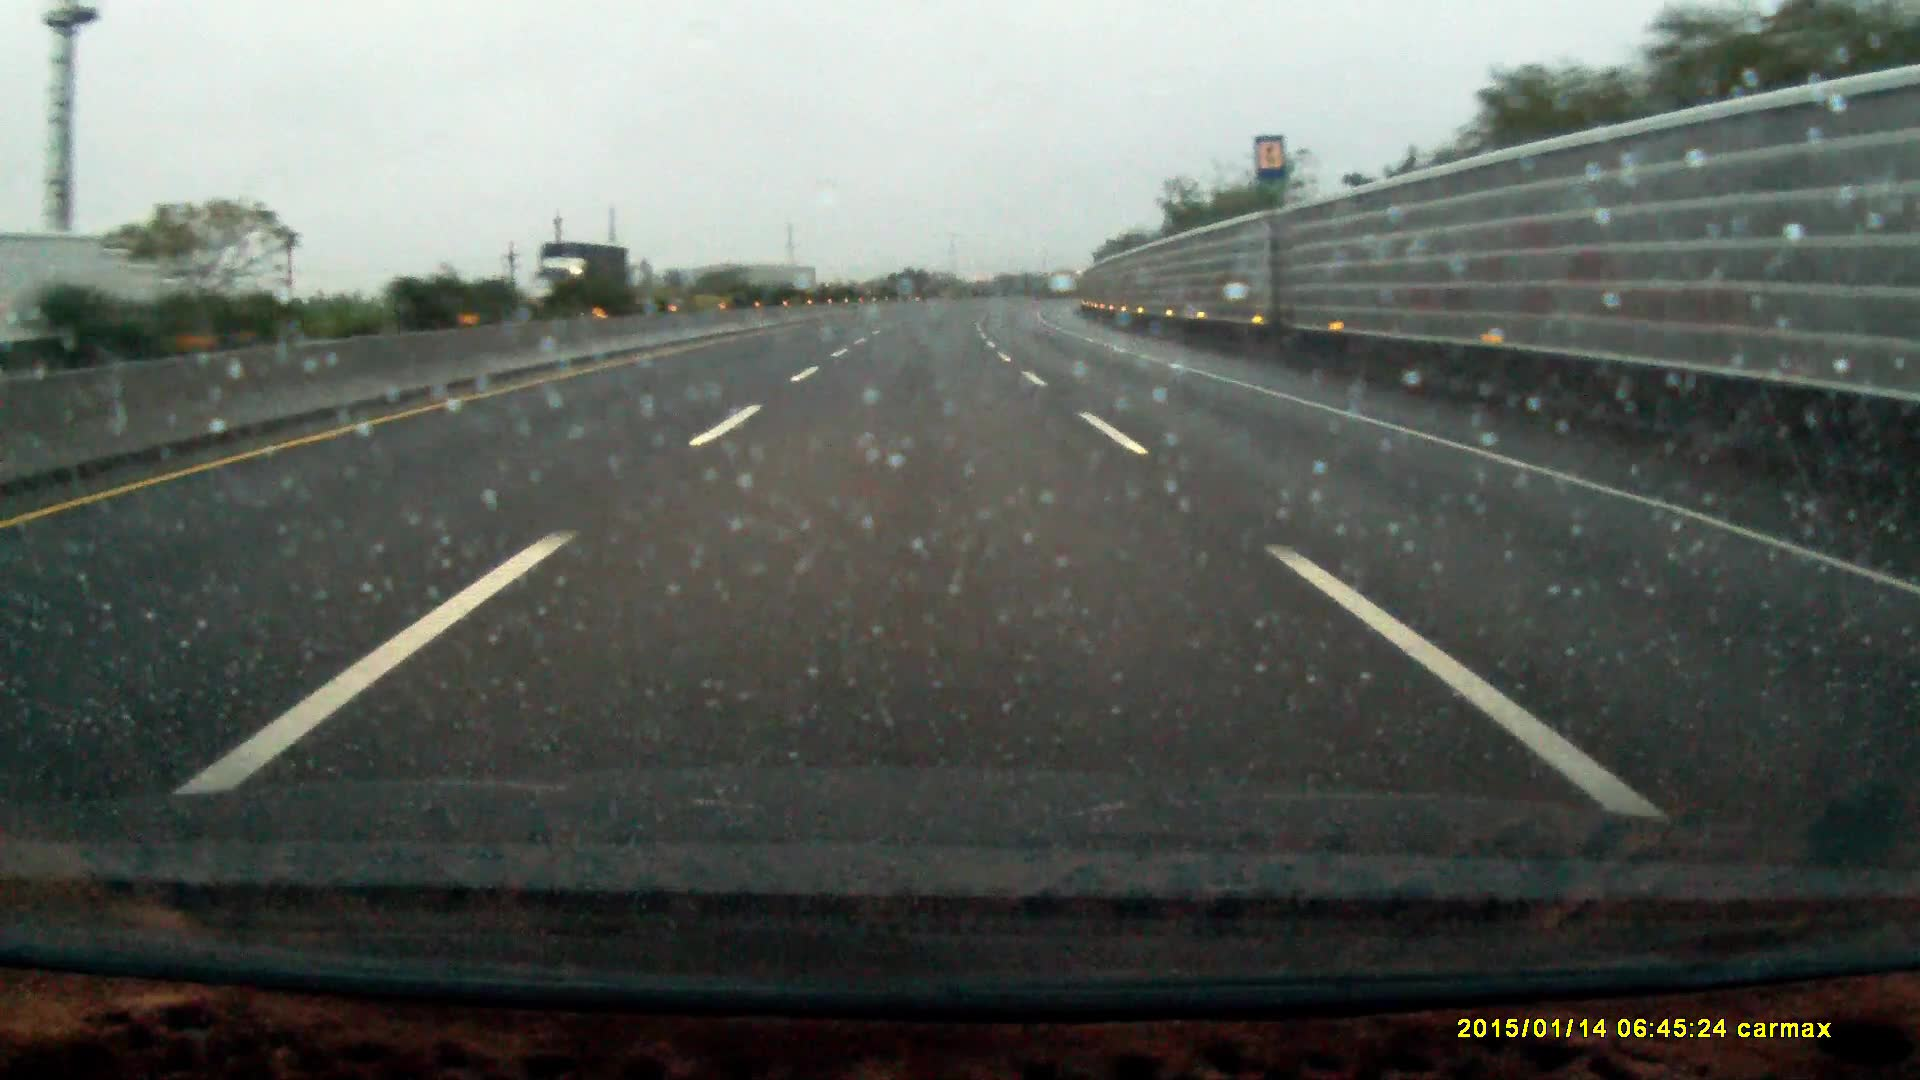vehicle: (539, 243, 628, 320)
